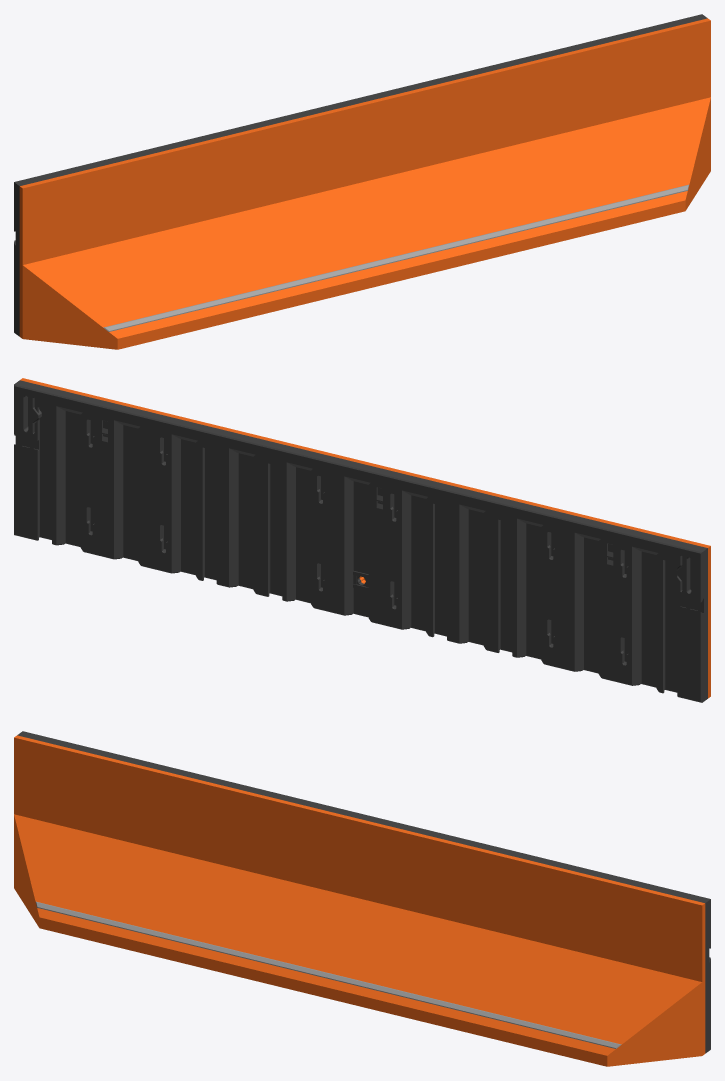
File: Faceplate_ClassicDecor_3W-1H.lib.glb
3 views of the same model, one above another, from view 1: azimuth 30°, elevation 25°; view 2: azimuth 150°, elevation 25°; view 3: azimuth 330°, elevation 25° (orthographic).
Visible parts, largest first — view 1: Faceplate_ClassicDecor_3W-1H; view 2: Faceplate_ClassicDecor_3W-1H; view 3: Faceplate_ClassicDecor_3W-1H.
Part boxes in pixels (x1,y1,x2,y2): Faceplate_ClassicDecor_3W-1H: (14,14,710,349); Faceplate_ClassicDecor_3W-1H: (14,378,710,702); Faceplate_ClassicDecor_3W-1H: (14,731,710,1066).
Size of the model in its own units: 263 by 55 by 29.18.
